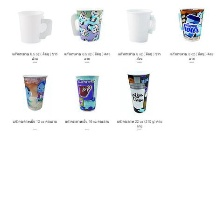paper_cup: (13, 6, 55, 47), (65, 4, 106, 45), (120, 4, 159, 47), (122, 65, 153, 116), (18, 68, 50, 113), (71, 69, 102, 114), (174, 4, 207, 44)
